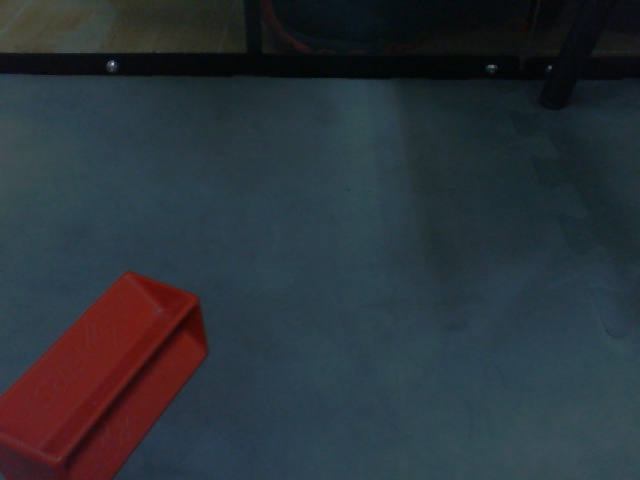RedSample: (1, 268, 211, 479)
